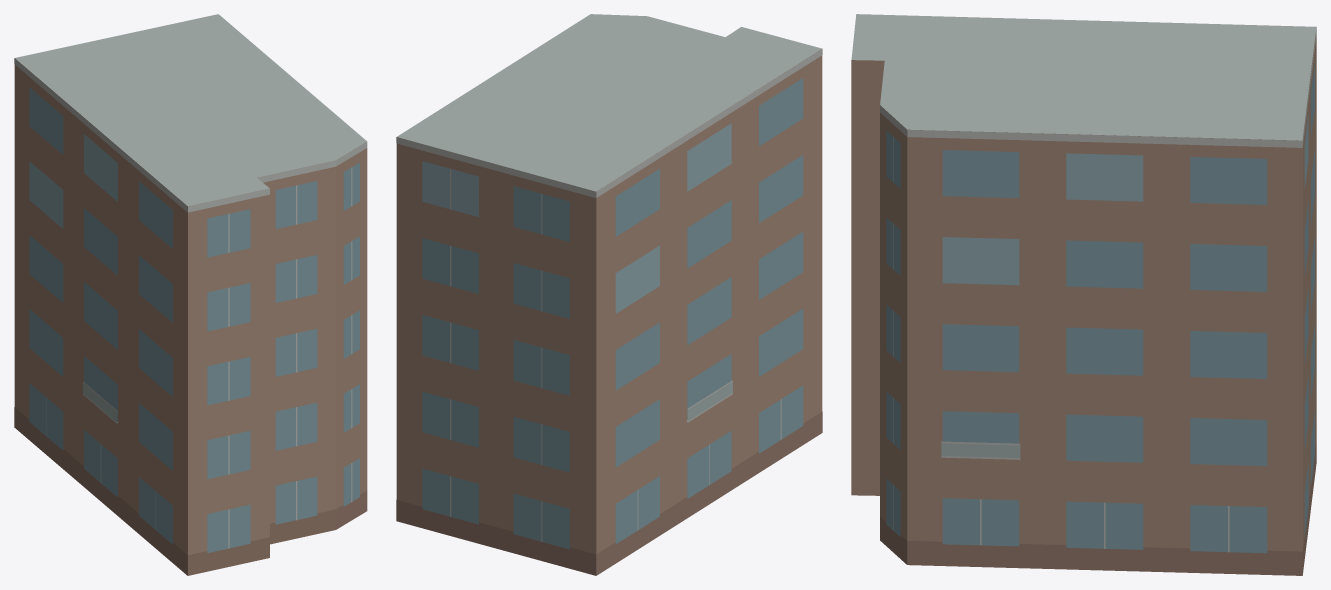
The model's file is survey-upis-32690342.glb.
3 views of the same model, side by side, from view 1: azimuth 30°, elevation 25°; view 2: azimuth 150°, elevation 25°; view 3: azimuth 270°, elevation 25° (orthographic). The views are drawn at different scales.
Parts seen in each view (by area): view 1: survey-upis-32690342.tmp; view 2: survey-upis-32690342.tmp; view 3: survey-upis-32690342.tmp.
Part boxes in pixels (left/top/right/bottom): survey-upis-32690342.tmp: left=14, top=14, right=367, bottom=575; survey-upis-32690342.tmp: left=396, top=14, right=822, bottom=575; survey-upis-32690342.tmp: left=851, top=14, right=1316, bottom=575.
Bounding box in the file's own units: 8.99 × 14.4 × 13.96.
